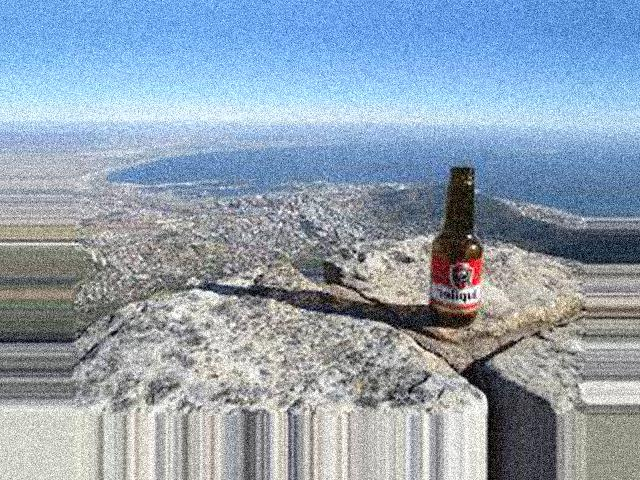beer: (429, 165, 483, 321)
